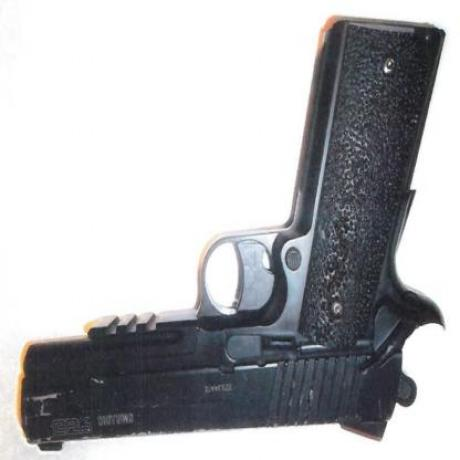weapon: (16, 14, 448, 454)
